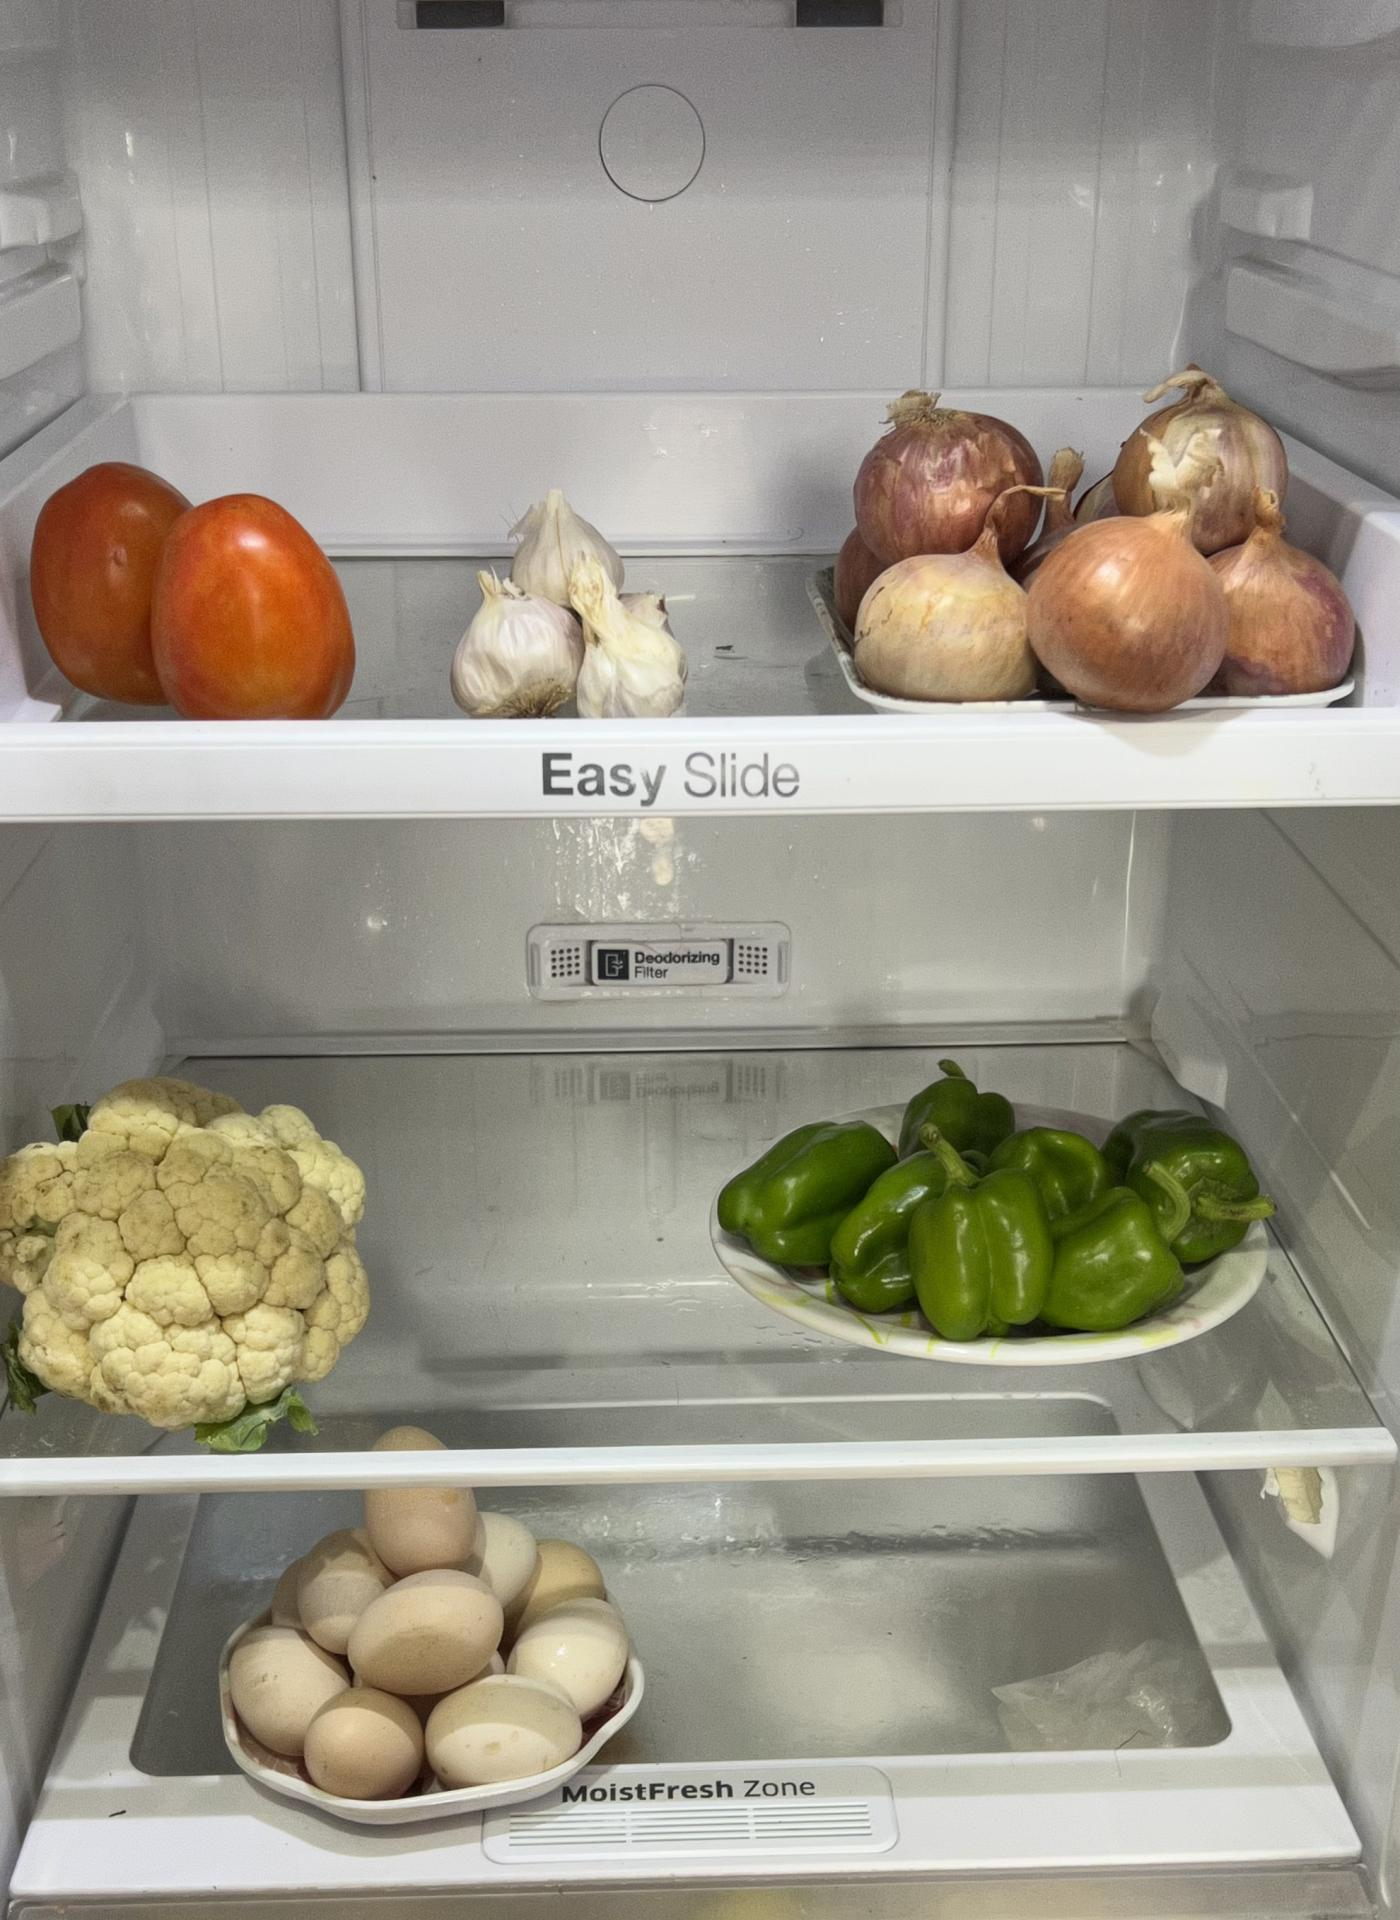capsicum: (717, 1051, 1281, 1339)
cauliflower: (4, 1078, 371, 1431)
egg: (216, 1474, 638, 1802)
garlic: (456, 487, 689, 724)
onion: (838, 376, 1370, 713)
tomato: (27, 453, 362, 721)
